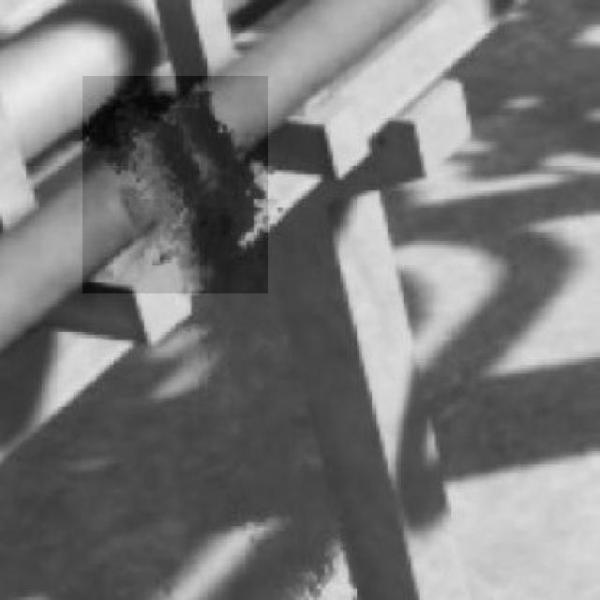gas: (82, 76, 268, 294)
